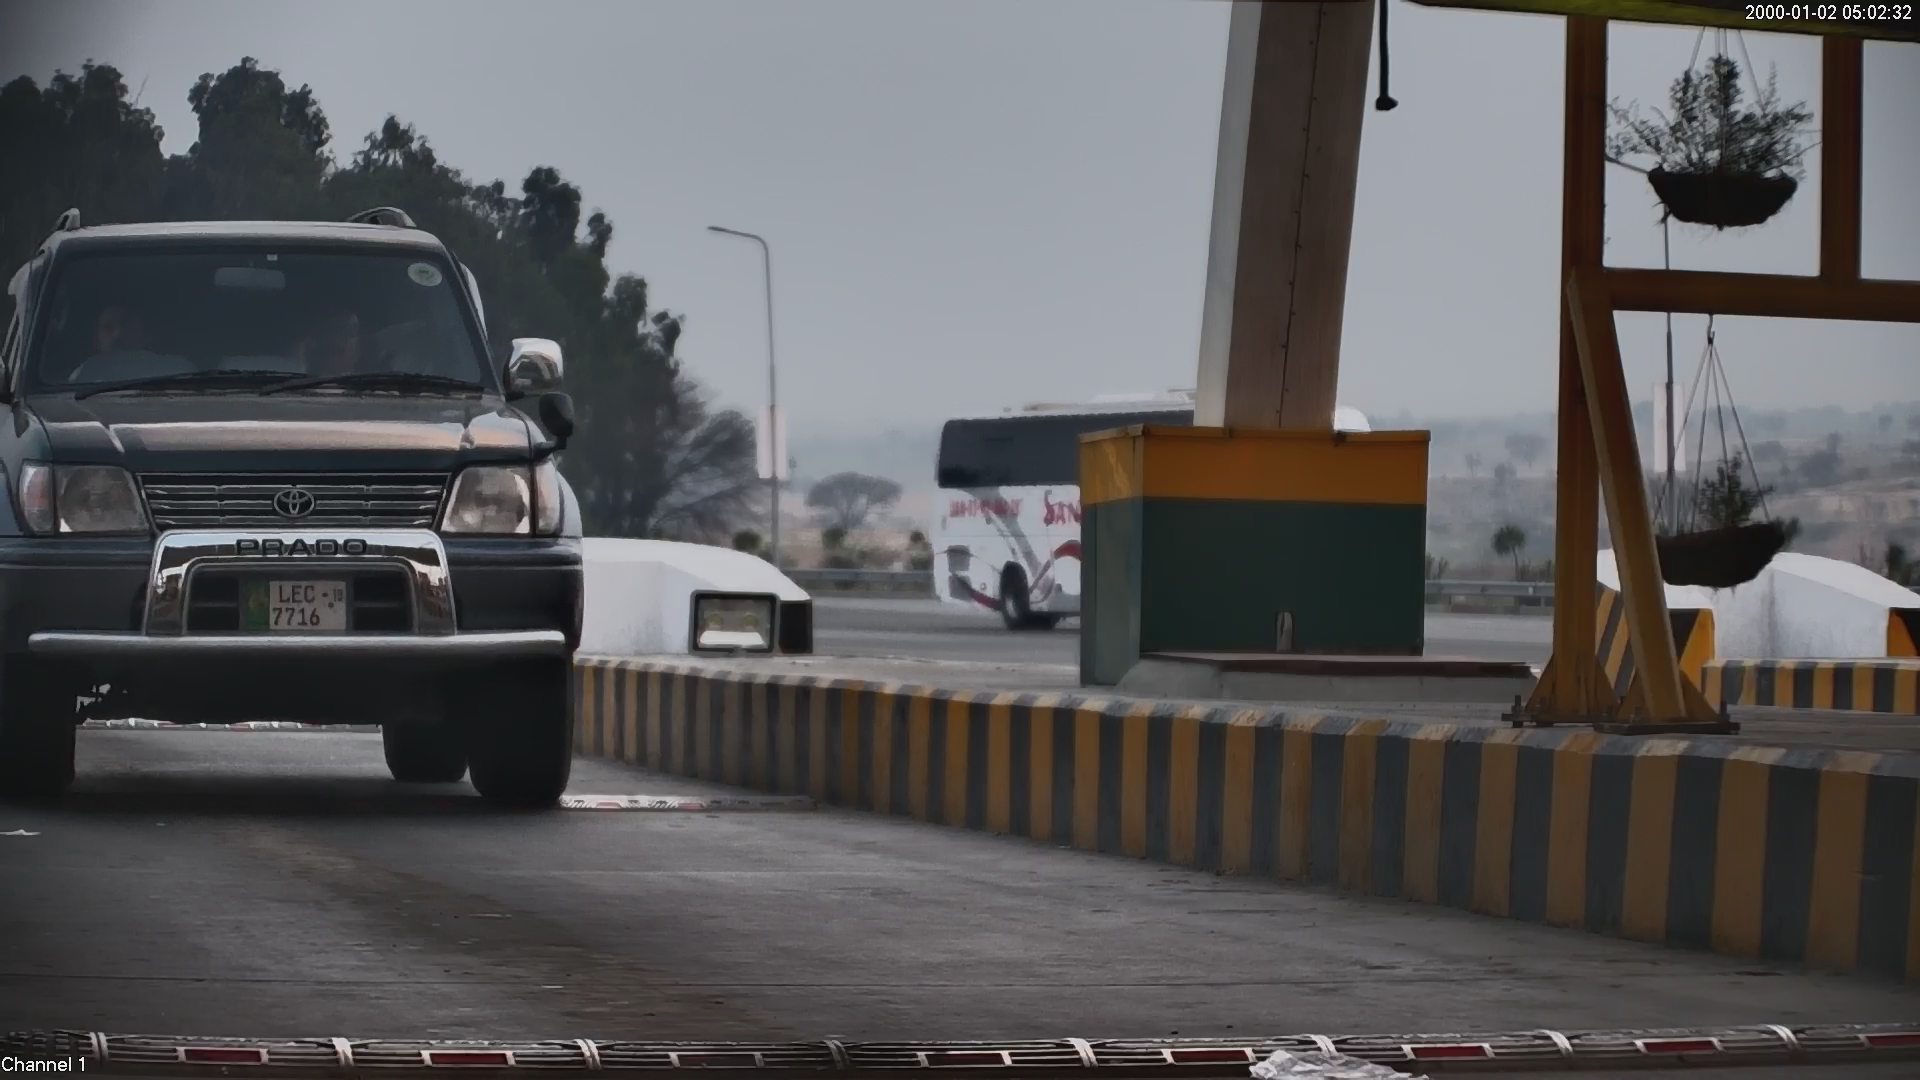Number_Plate: (233, 569, 354, 646)
